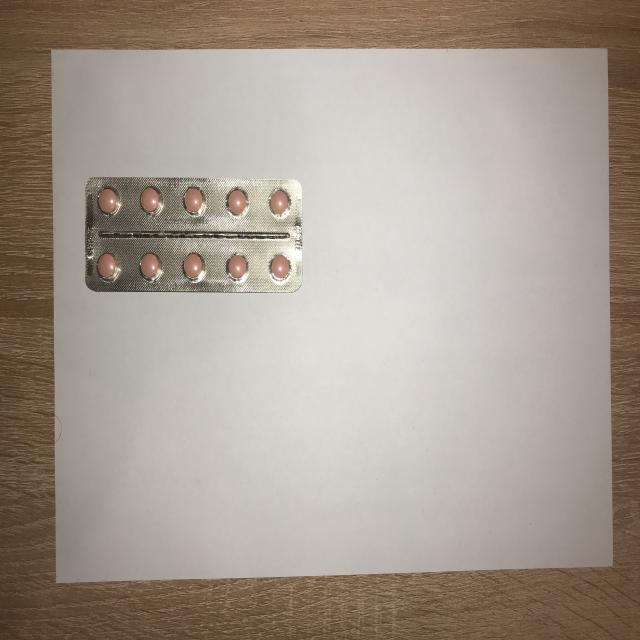tablets: (78, 166, 308, 302)
